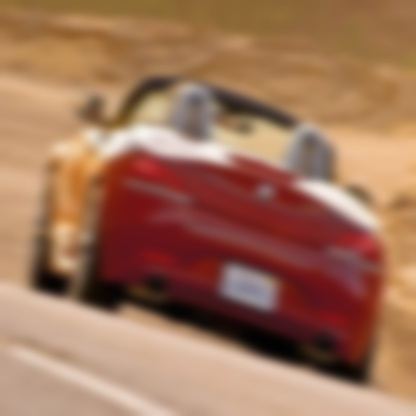Vehicle: (25, 38, 387, 388)
